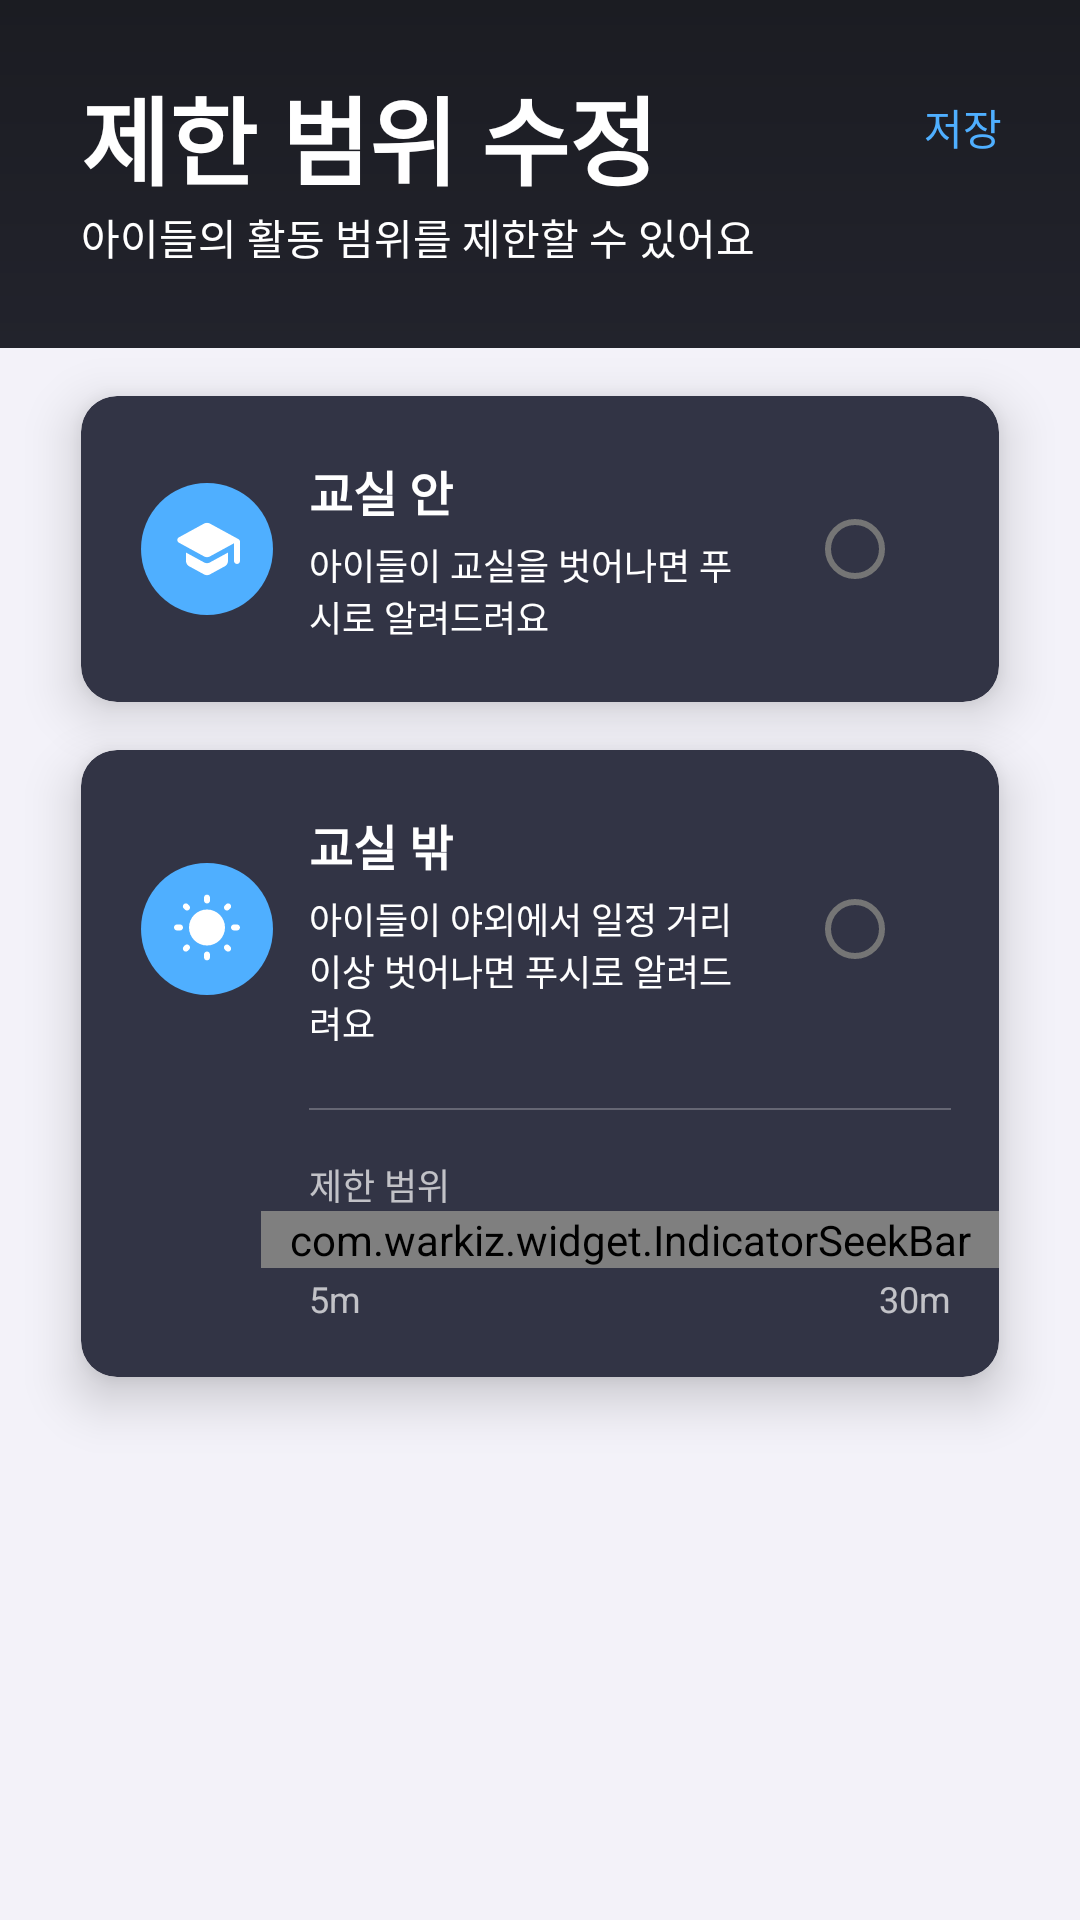

Point at icon controls on the screen. Image size 1080*1920, points as (x,y).
outside: (207,927)
school: (208,549)
